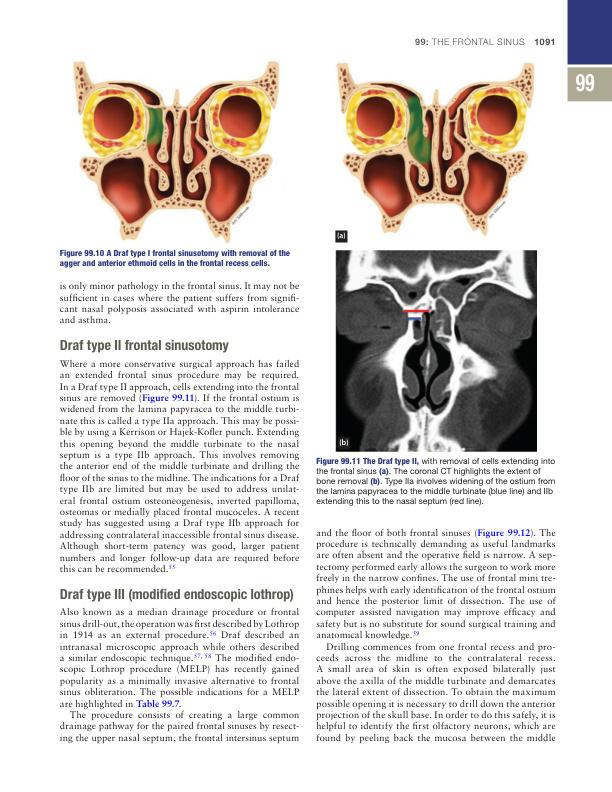caption: (314, 456, 557, 507), (58, 248, 291, 269), (336, 231, 347, 242), (338, 438, 350, 447)
header: (413, 36, 526, 46)
image: (63, 53, 290, 246), (335, 250, 538, 453), (327, 55, 544, 244)
sub-section-heading: (59, 587, 295, 603), (59, 339, 230, 354)
text: (314, 527, 556, 744), (58, 358, 301, 574), (58, 606, 300, 745), (58, 280, 300, 325)
